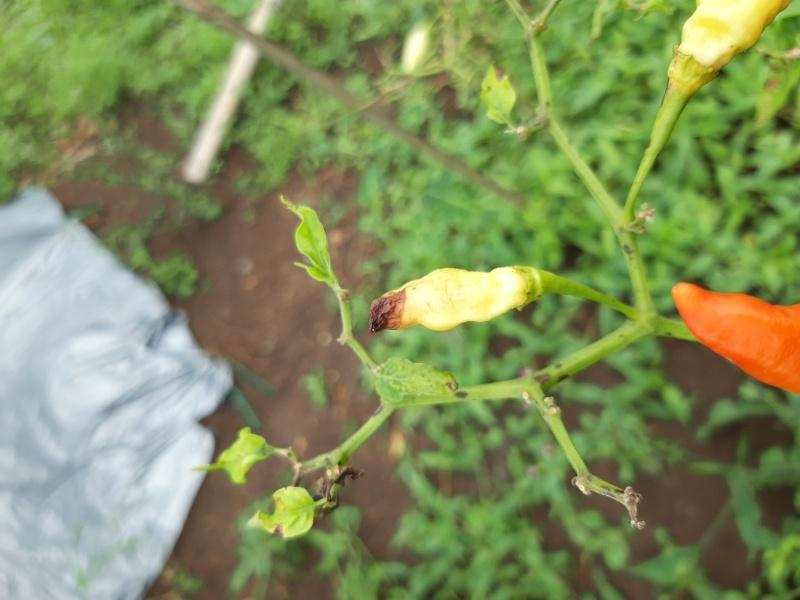antraknosa: (370, 264, 530, 333)
cabai_normal: (670, 279, 800, 393)
